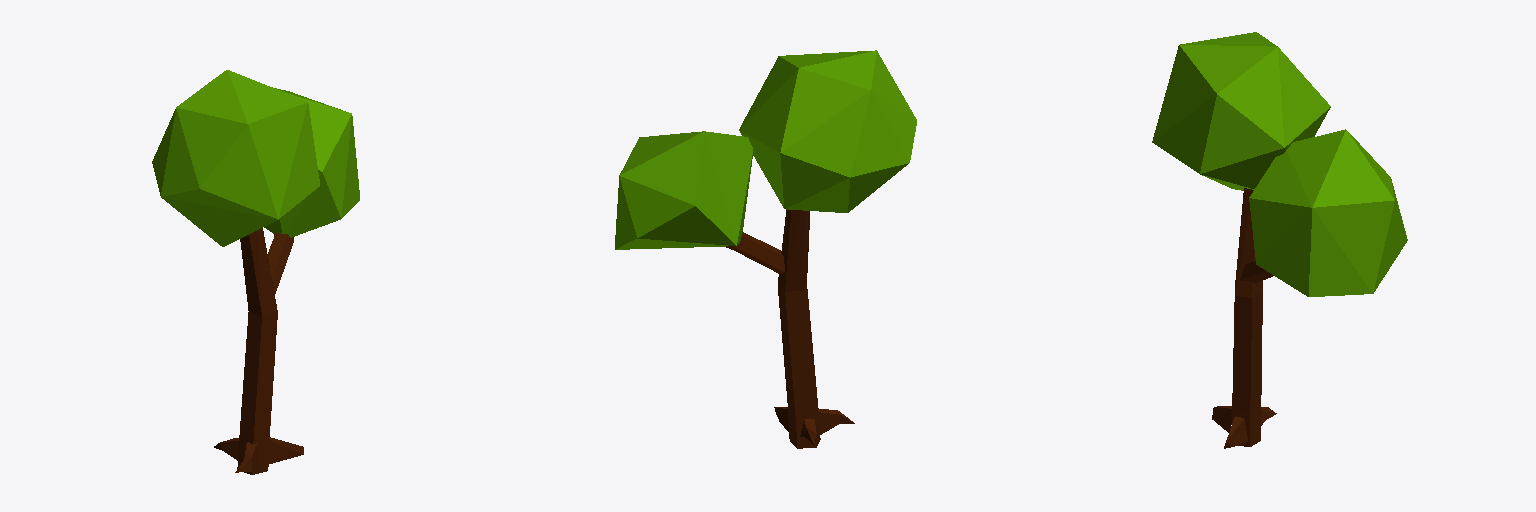
Rendered from tree02.obj.
3 views of the same model, side by side, from view 1: azimuth 30°, elevation 25°; view 2: azimuth 150°, elevation 25°; view 3: azimuth 270°, elevation 25° (orthographic).
Parts seen in each view (by area): view 1: tree02_Cylinder.002; view 2: tree02_Cylinder.002; view 3: tree02_Cylinder.002.
Boxes of the visible parts, box(x1,y1,x2,y2) form: tree02_Cylinder.002: box(152, 70, 359, 474); tree02_Cylinder.002: box(615, 50, 916, 448); tree02_Cylinder.002: box(1152, 32, 1407, 448).
Size of the model in its own units: 1.78 by 2.79 by 1.67.